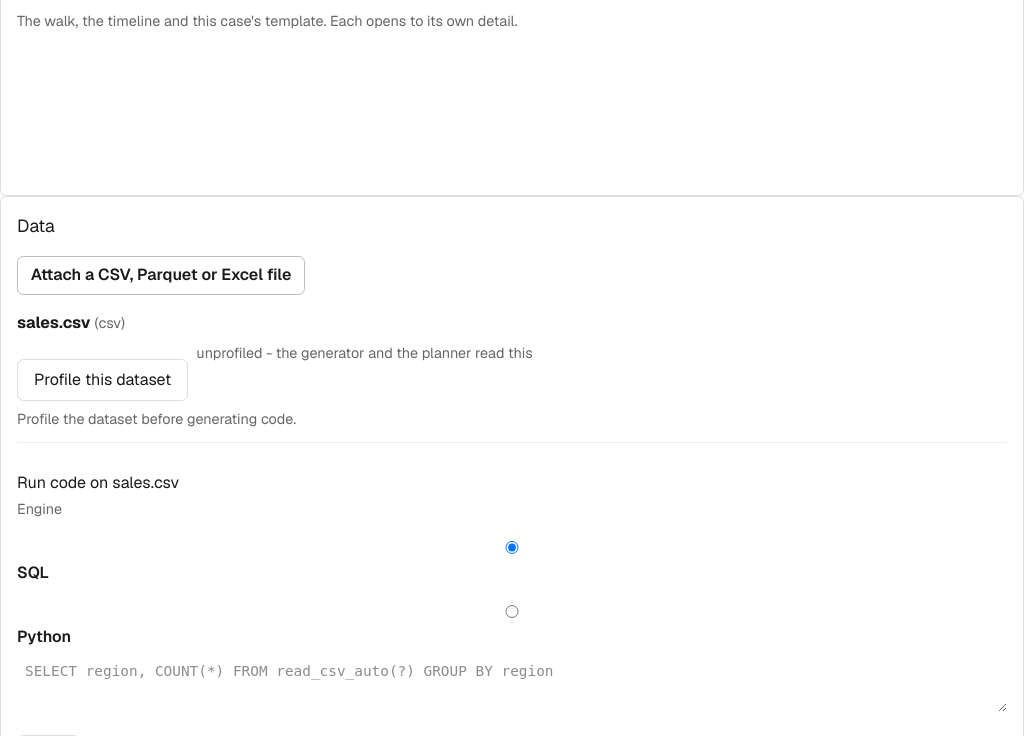
Test case: CaseWorkspace › shows the endpoint's own reason when a profile fails on request
(page scrolled)
Expected: the text "unprofiled - the generator and the planner read this" is shown, [196,344,533,362]
Click the button with aria-label "profile sales.csv" at (103,380), box [17,359,188,401]
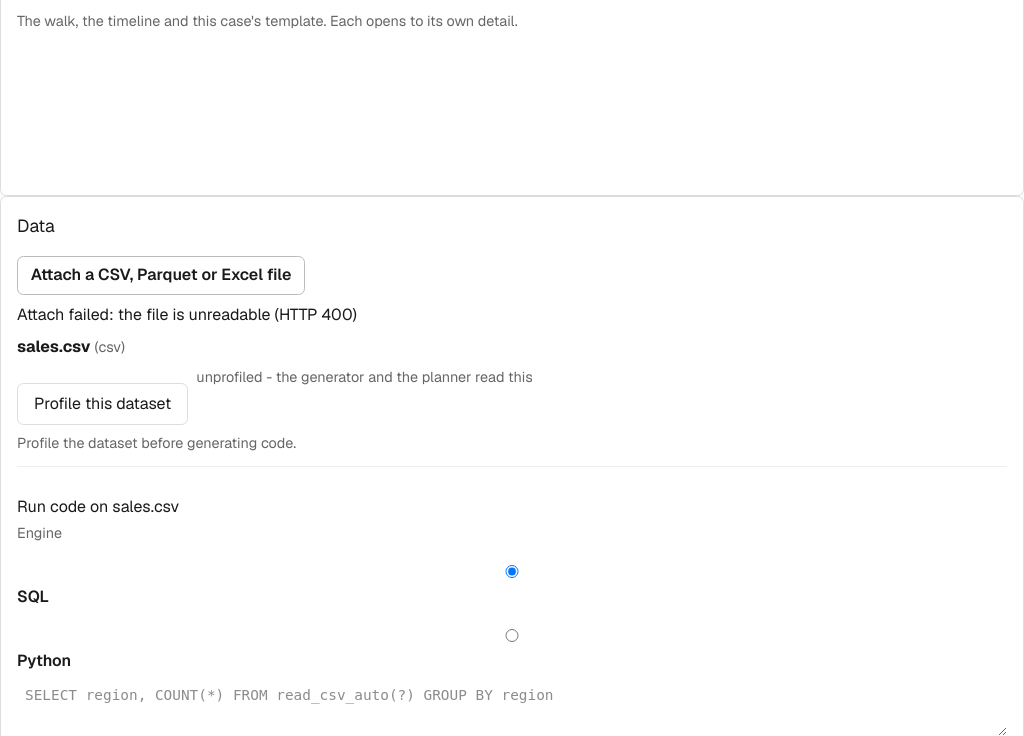
Expected: the text "Attach failed: the file is unreadable (HTTP 400)" is shown, [17,304,357,325]
